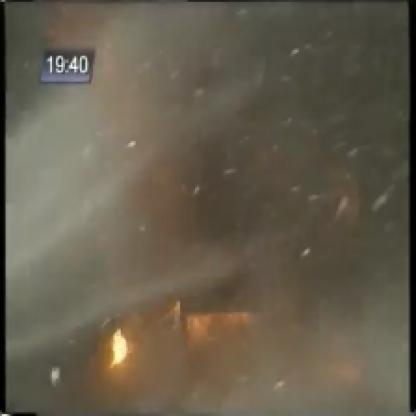fire: (177, 295, 258, 341), (89, 321, 141, 381)
